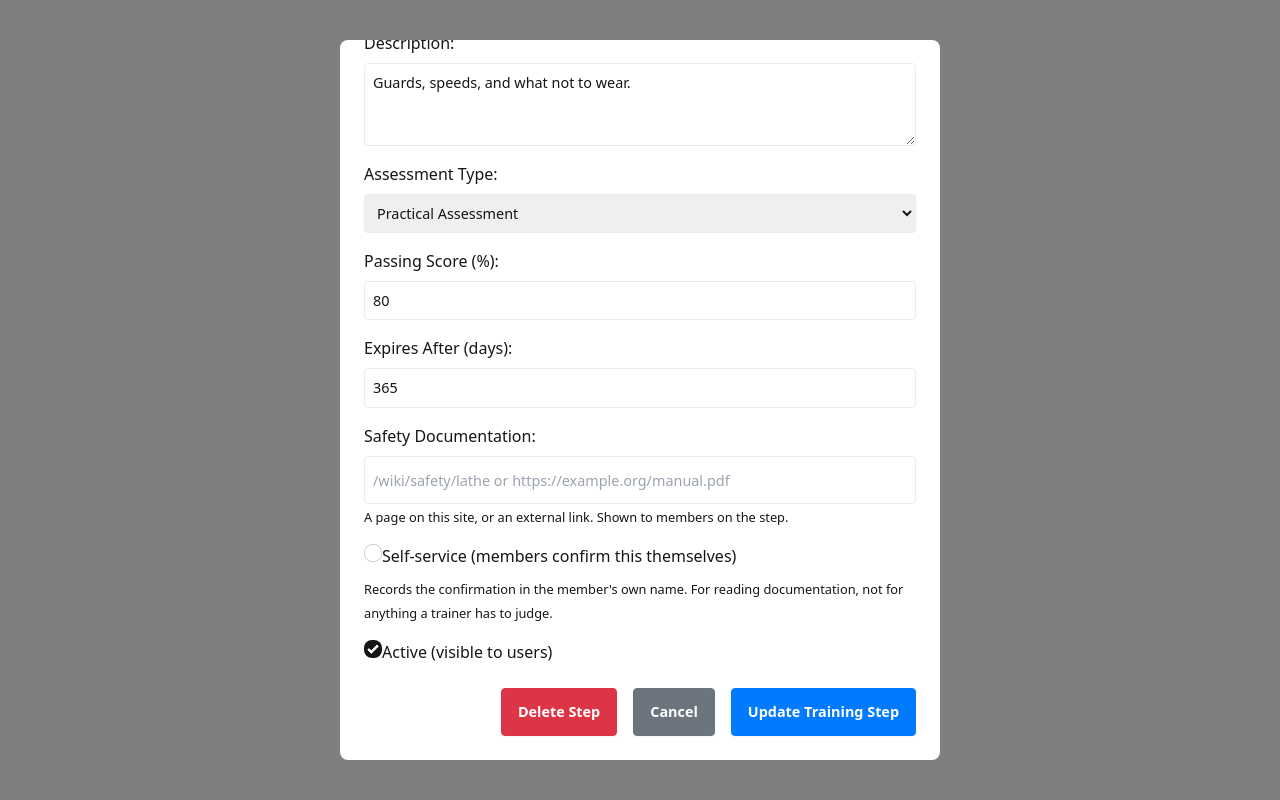
Test: deleting › reports a refused delete and stays open
The image size is (1280, 800).
(page scrolled)
Click the button "Delete Step". click: (559, 712)
box: [501,688,617,736]
(page scrolled)
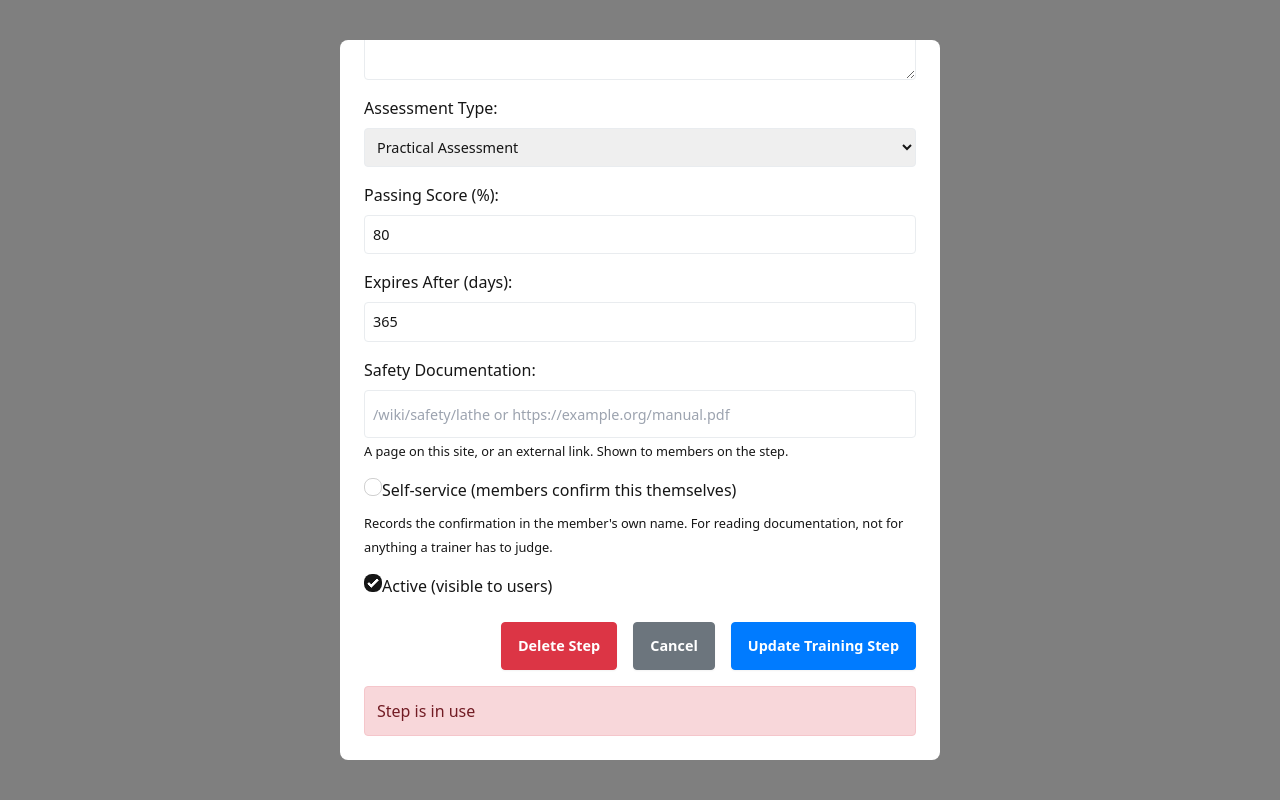
Expected: the text with class "error-message" reads "Step is in use", [377,700,475,722]
